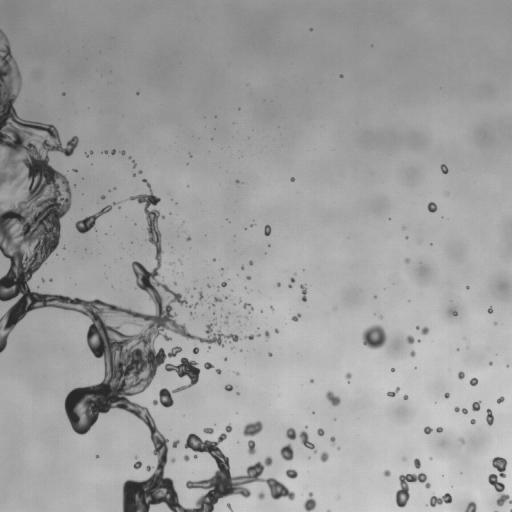droplet: (395, 473, 430, 507), (362, 325, 386, 349), (243, 420, 262, 436), (303, 492, 316, 511), (280, 443, 293, 460), (326, 391, 340, 406), (248, 440, 256, 455), (464, 501, 476, 511), (285, 469, 297, 478), (427, 202, 437, 212), (440, 164, 448, 174), (291, 313, 301, 321), (472, 401, 480, 411), (320, 452, 328, 462), (133, 460, 141, 469), (264, 225, 271, 235), (243, 303, 253, 310), (406, 335, 414, 343), (469, 378, 477, 386), (424, 426, 432, 434), (204, 362, 213, 369), (203, 428, 213, 434), (414, 458, 420, 468), (449, 309, 457, 316), (420, 327, 428, 334), (225, 384, 233, 391), (317, 428, 324, 436), (497, 396, 504, 403), (172, 440, 179, 447), (258, 492, 265, 499), (458, 371, 464, 379), (345, 373, 351, 381), (192, 346, 198, 353), (183, 454, 189, 461), (384, 470, 390, 476), (214, 297, 221, 302), (264, 331, 269, 338), (330, 436, 335, 443), (444, 392, 449, 398), (436, 427, 442, 432), (132, 160, 136, 167), (246, 335, 253, 339), (110, 149, 115, 154), (410, 351, 415, 356), (216, 369, 221, 374), (470, 419, 475, 424), (220, 282, 226, 286), (488, 307, 492, 313), (120, 150, 125, 154), (405, 258, 409, 263), (290, 277, 294, 282), (224, 319, 228, 324), (460, 438, 464, 443), (104, 150, 108, 154), (290, 177, 294, 181), (101, 195, 105, 199), (186, 237, 190, 241), (249, 261, 253, 265), (274, 329, 278, 333), (403, 395, 407, 399), (171, 458, 175, 462), (270, 306, 273, 310), (268, 352, 271, 356), (85, 153, 88, 156), (74, 169, 77, 172), (241, 266, 244, 269), (247, 276, 250, 279), (277, 283, 280, 286), (489, 362, 492, 365), (391, 368, 394, 371), (310, 379, 313, 382), (340, 74, 342, 77), (90, 151, 93, 153), (139, 170, 141, 173), (132, 174, 135, 176), (236, 180, 238, 183), (289, 284, 291, 287), (466, 286, 469, 288), (374, 295, 376, 298), (416, 326, 419, 328), (257, 334, 260, 336), (224, 358, 227, 360), (337, 447, 340, 449), (136, 92, 138, 94), (129, 157, 131, 159), (207, 284, 209, 286), (212, 303, 214, 305), (379, 315, 381, 317), (494, 322, 496, 324), (236, 373, 238, 375), (430, 457, 432, 459), (403, 458, 405, 460), (510, 509, 511, 511)
ligament: (0, 29, 293, 511), (488, 457, 511, 506), (75, 205, 111, 233), (285, 428, 316, 452), (428, 493, 452, 506), (387, 387, 399, 397), (300, 285, 307, 301), (486, 409, 493, 425), (454, 406, 467, 413), (227, 504, 233, 511), (112, 202, 118, 205), (326, 510, 330, 511)
